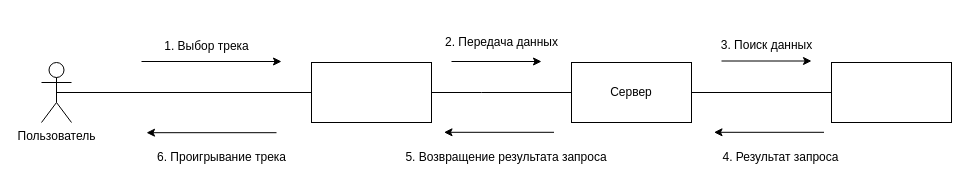
The diagram is 969 pixels wide and 190 high, and some of its shapes have lost their labels. Each missing label, with the centre of its shape:
База данных: pixel 891 92
Клиент: pixel 371 92
